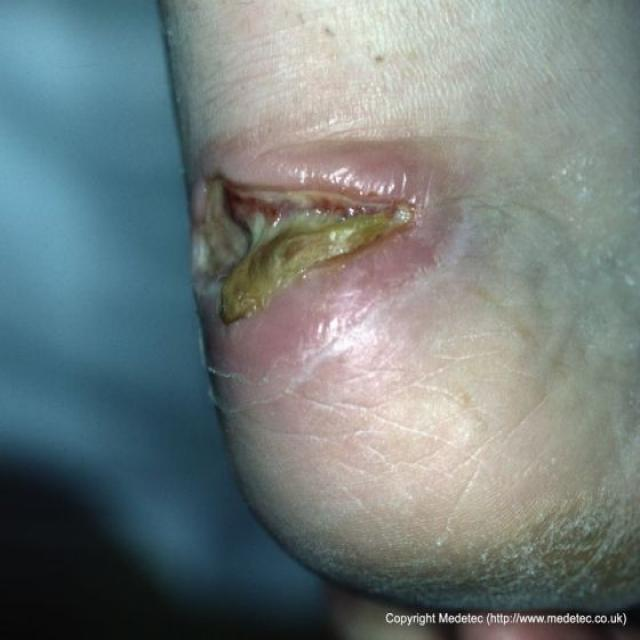Unstageable: (194, 175, 414, 324)
